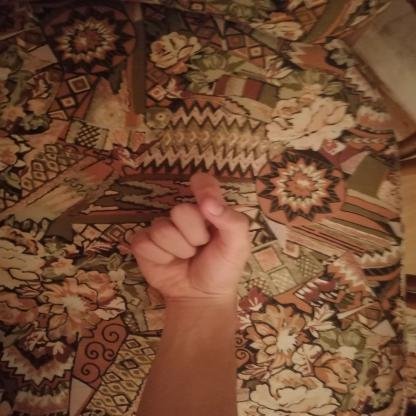FAA: (114, 164, 269, 311)
